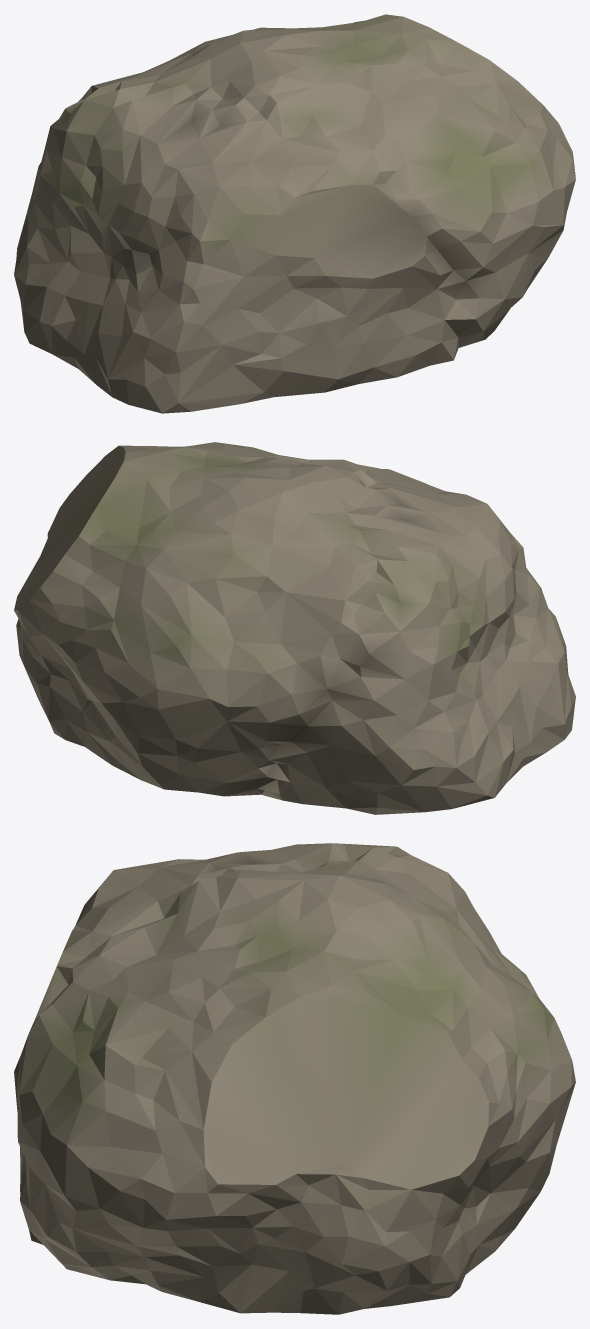
File: stone_A.glb
The picture shows the model from 3 angles, top to bottom: view 1: azimuth 30°, elevation 25°; view 2: azimuth 150°, elevation 25°; view 3: azimuth 270°, elevation 25°; orthographic projection. The views are drawn at different scales.
Visible parts, largest first — view 1: stone_A; view 2: stone_A; view 3: stone_A.
Part boxes in pixels (<box>): stone_A: <box>14,14,575,413</box>; stone_A: <box>14,442,575,814</box>; stone_A: <box>14,843,575,1314</box>.
Bounding box in the file's own units: 0.3196 × 0.16 × 0.2603.
